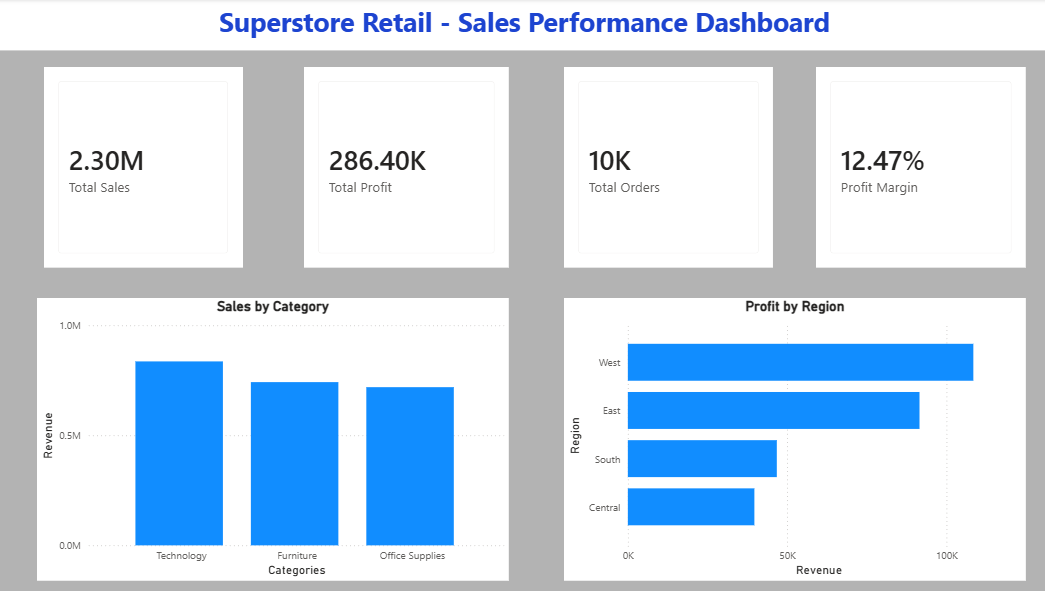

The page's visual inventory and layout, read from the dashboard file:
{"tool":"powerbi","page":{"name":"Excecutive Summary","canvas":[1280,720],"ordinal":0},"visuals":[{"type":"textbox","box":[9.6,0,1269.9,61.5],"z":0},{"type":"columnChart","title":"Sales by Category","fields":{"Category":["Sample - Superstore.Category"],"Y":["Sum(Sample - Superstore.Sales)"]},"box":[56.7,360.6,569.2,341.3],"z":1000},{"type":"barChart","title":" Profit by Region","fields":{"Category":["Sample - Superstore.Region"],"Y":["Sample - Superstore.Total Profit"]},"box":[692.3,360.6,557.2,341.3],"z":2000},{"type":"cardVisual","fields":{"Data":["Sample - Superstore.Profit Margin"]},"box":[996.2,82,253.3,242.4],"z":3000},{"type":"cardVisual","fields":{"Data":["Sample - Superstore.Total Sales"]},"box":[65.1,82,240,242.4],"z":4000},{"type":"cardVisual","fields":{"Data":["Sample - Superstore.Total Profit"]},"box":[378.7,82,247.2,242.4],"z":5000},{"type":"cardVisual","fields":{"Data":["Sample - Superstore.Total Orders"]},"box":[692.3,82,252.1,242.4],"z":6000}]}

Visuals, with their boxes in screenshot pixels (x1, y1, x2, y2), scaled from the page's 1280x720 canvas onto the 1045x591 screenshot:
textbox: (8,0,1044,50)
"Sales by Category" columnChart: (46,296,511,576)
" Profit by Region" barChart: (565,296,1020,576)
cardVisual - Sample - Superstore.Profit Margin: (813,67,1020,266)
cardVisual - Sample - Superstore.Total Sales: (53,67,249,266)
cardVisual - Sample - Superstore.Total Profit: (309,67,511,266)
cardVisual - Sample - Superstore.Total Orders: (565,67,771,266)
